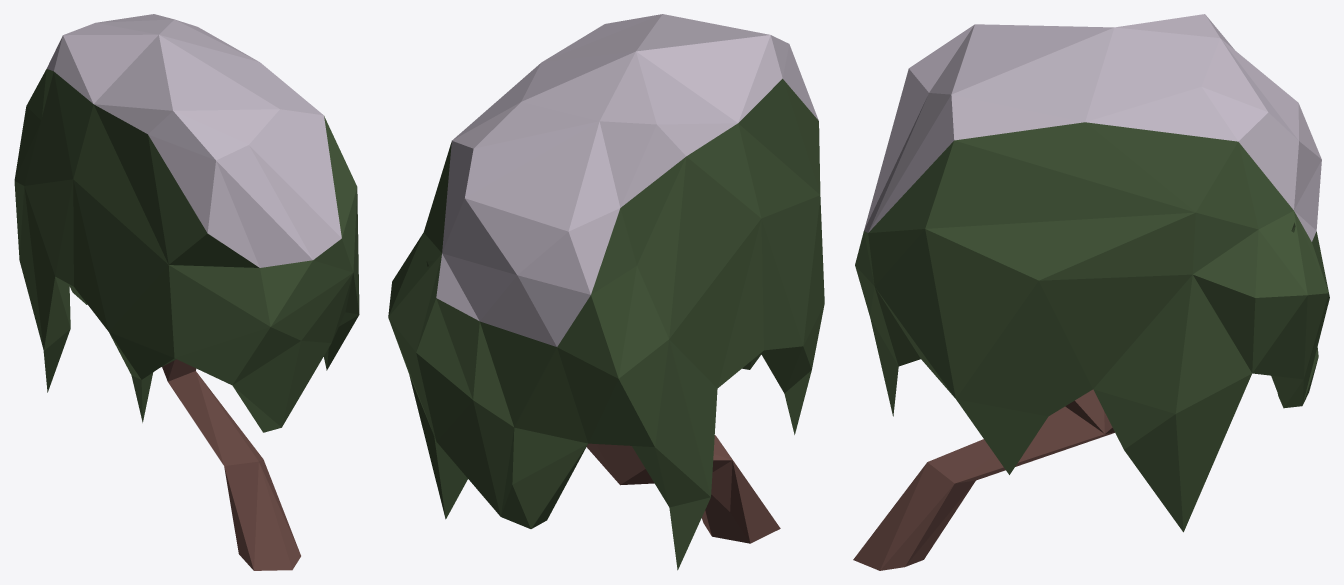
Rendered from Willow_Snow_3.lod2.glb.
The picture shows the model from 3 angles, left to right: view 1: azimuth 30°, elevation 25°; view 2: azimuth 150°, elevation 25°; view 3: azimuth 270°, elevation 25°; orthographic projection. The views are drawn at different scales.
Parts seen in each view (by area): view 1: Willow_Snow_3; view 2: Willow_Snow_3; view 3: Willow_Snow_3.
Part boxes in pixels (x1,y1,x2,y2): Willow_Snow_3: (14,14,359,570); Willow_Snow_3: (388,14,824,570); Willow_Snow_3: (853,14,1329,570).
Size of the model in its own units: 1.3 by 2.41 by 1.99.
